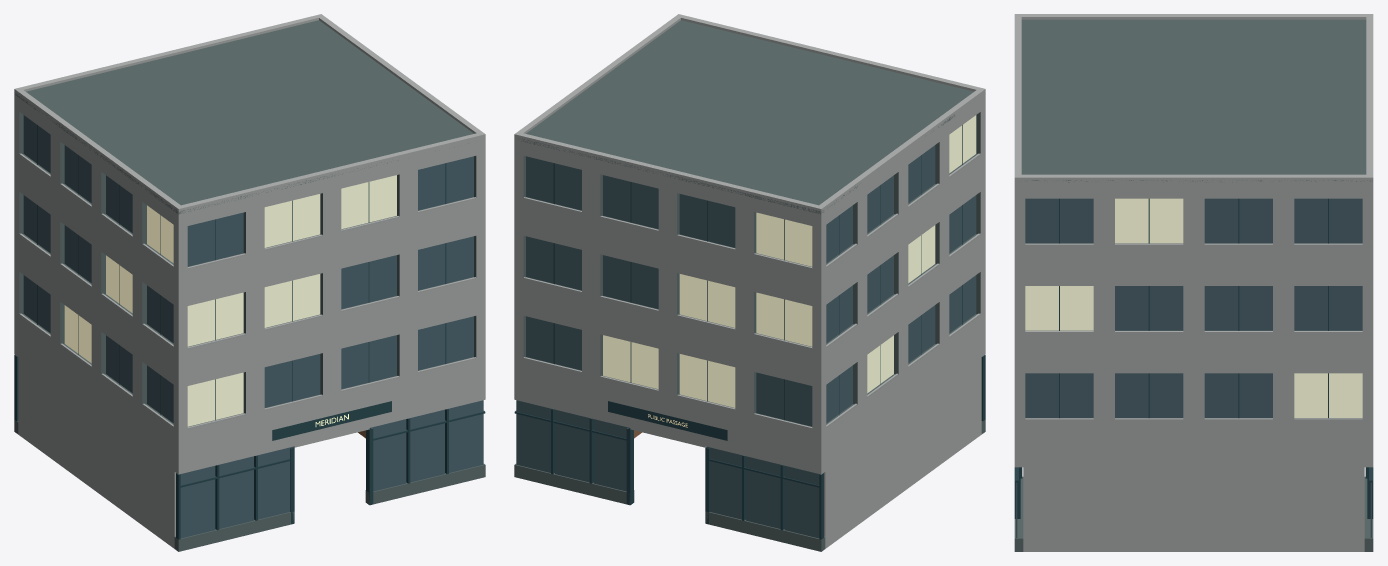
Rendered from lobby-pilot-runtime.glb.
3 views of the same model, side by side, from view 1: azimuth 30°, elevation 25°; view 2: azimuth 150°, elevation 25°; view 3: azimuth 270°, elevation 25° (orthographic). The views are drawn at different scales.
Parts seen in each view (by area): view 1: lobby_runtime_lod0; view 2: lobby_runtime_lod0; view 3: lobby_runtime_lod0.
Boxes of the visible parts, x1,y1,x2,y2 form: lobby_runtime_lod0: (14,14,485,551); lobby_runtime_lod0: (514,14,985,551); lobby_runtime_lod0: (1014,14,1373,551).
Size of what is drawn, in the model's own units: 13.12 by 14 by 12.17.
